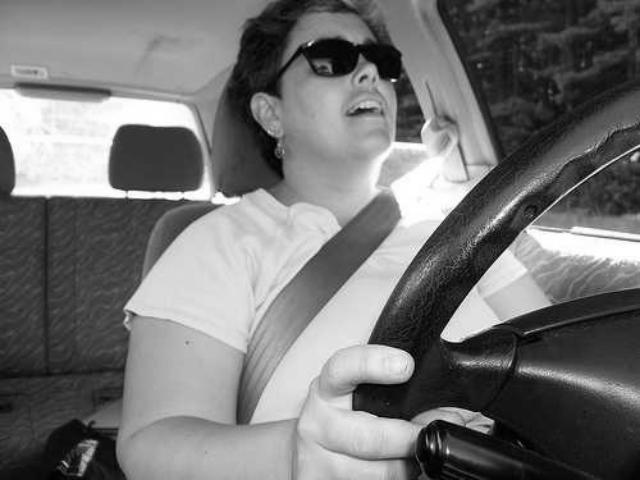SafeDriving: (299, 52, 362, 82)
Seatbelt: (228, 112, 466, 430)
